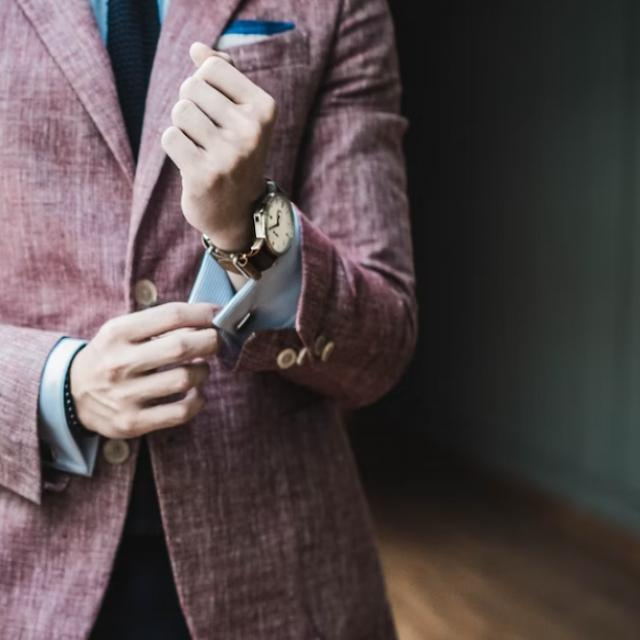Watch: (209, 178, 297, 280)
